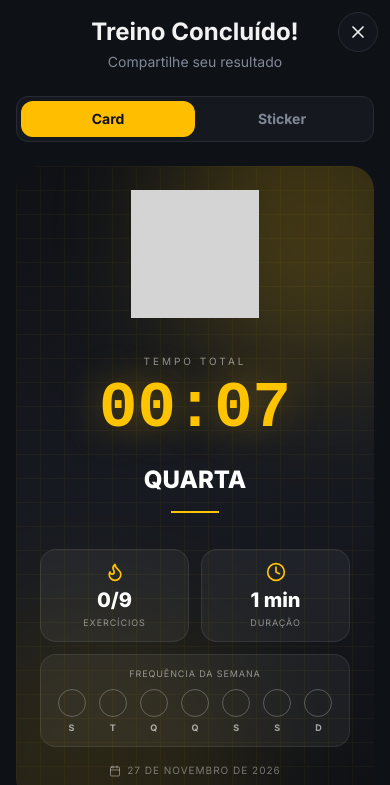
Test case: WorkoutSummaryShare › switches to the Sticker tab
Click the tab "Sticker".
click(282, 119)  # box [195,101,369,137]
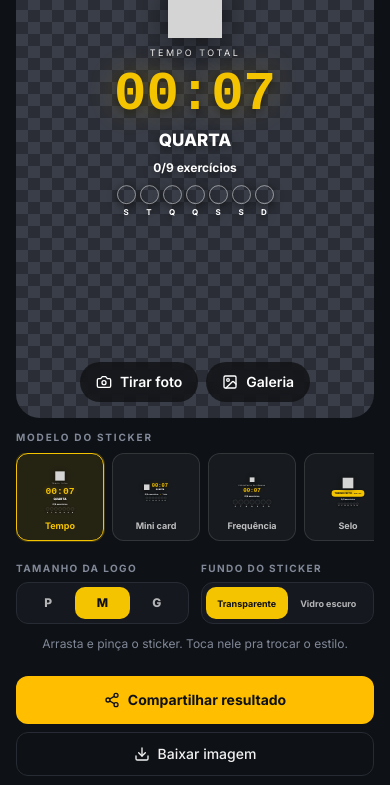
Expected: the text "Arrasta e pinça o sticker. Toca nele pra trocar o estilo." is shown, [16,636,374,652]
